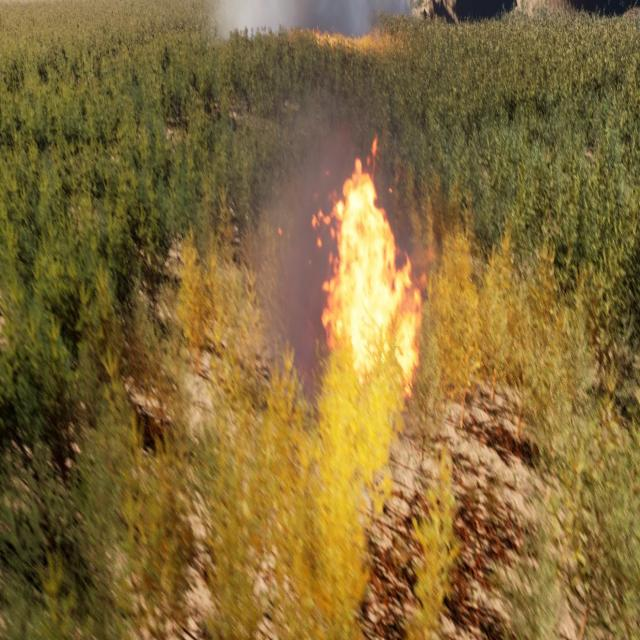fire: (305, 130, 422, 401)
smoke: (248, 106, 414, 407), (205, 0, 419, 44)
